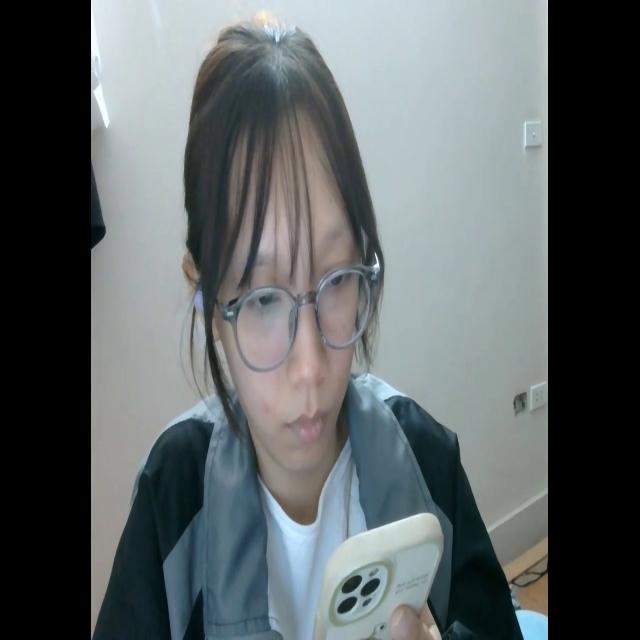phone: (307, 506, 445, 640)
student: (93, 10, 526, 640)
